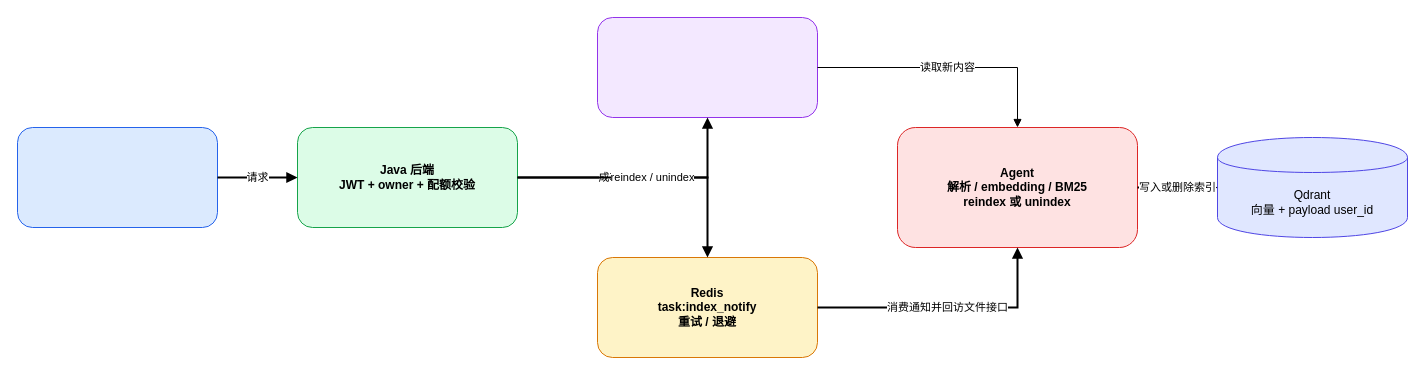
Some shapes in this 1425 by 375 pixel diagram are drawn without their labels. Here are the shapes that lost their labels. From the top down, the centre of each, then its label:
At pixel 707 67: "MySQL + MinIO 元数据 / 对象内容".
At pixel 117 177: "用户文件操作 上传 / 秒传 / 覆盖 / 删除".
